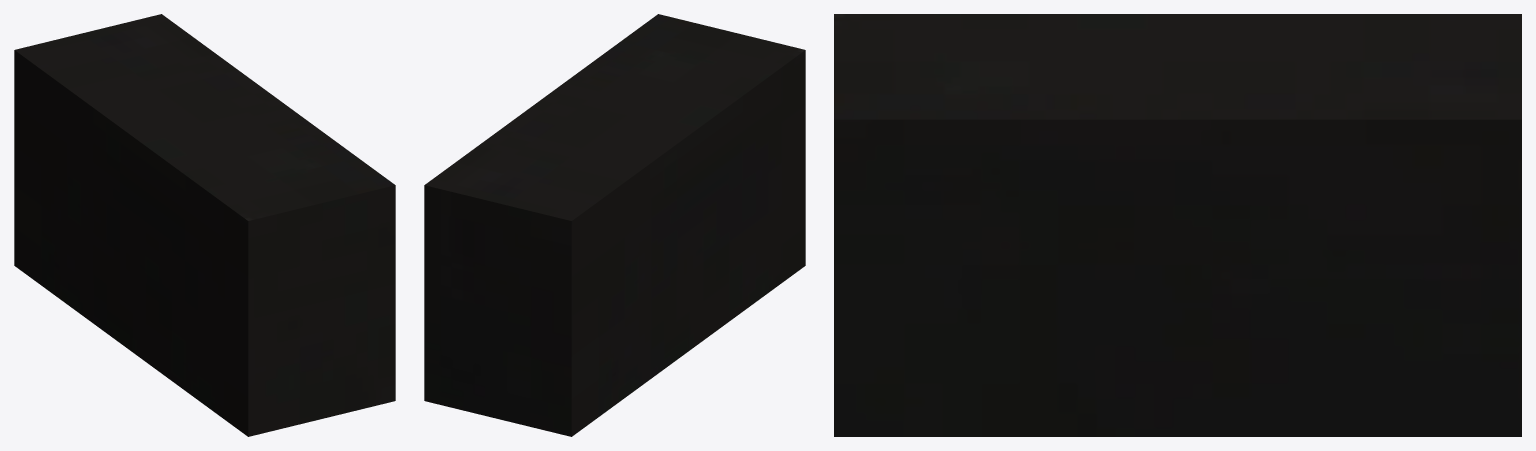
Rendered from pump_body__hose_clip.glb.
3 views of the same model, side by side, from view 1: azimuth 30°, elevation 25°; view 2: azimuth 150°, elevation 25°; view 3: azimuth 270°, elevation 25° (orthographic). The views are drawn at different scales.
Visible parts, largest first — view 1: geometry_0; view 2: geometry_0; view 3: geometry_0.
Part boxes in pixels (<box>): geometry_0: <box>14,14,395,436</box>; geometry_0: <box>424,14,805,436</box>; geometry_0: <box>834,14,1521,436</box>.
Bounding box in the file's own units: 0.02 × 0.028 × 0.055.
1 material, 1 textured.
